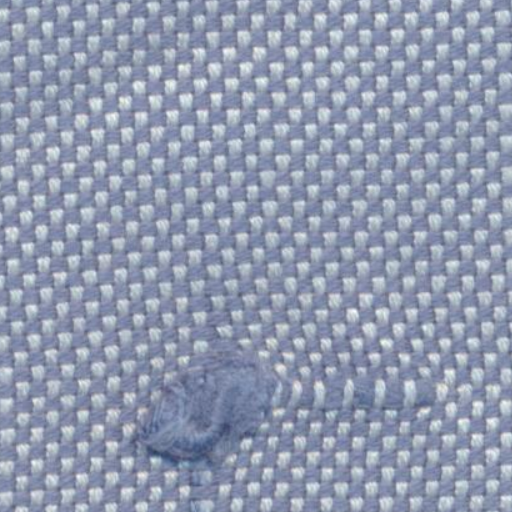MianQiu: (112, 330, 288, 474)
